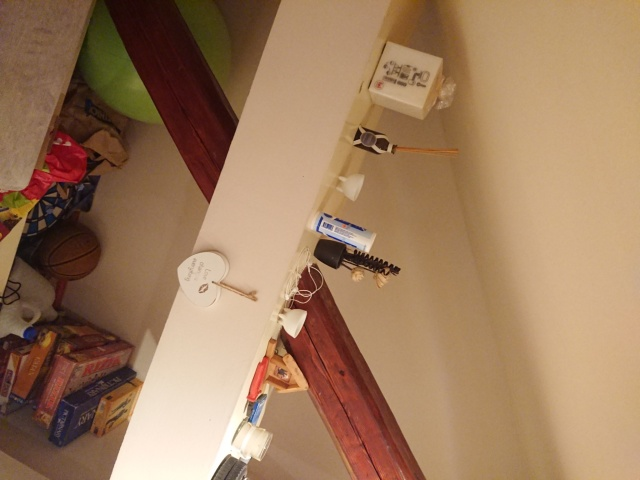Solana Pag Fine Sea Salt 250g: (307, 207, 379, 255)
